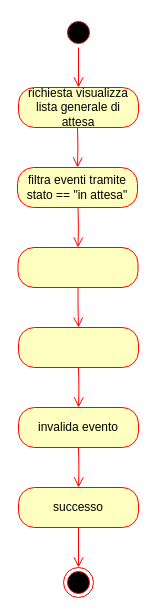
This 156x615 diagram has some shape labels left out. Here are the shapes that lost their labels. From the top down, the centre of each, then its label:
At (x=77, y=267): "visualizza eventi filtrati".
At (x=78, y=347): "acquisisci evento da invalidare".
